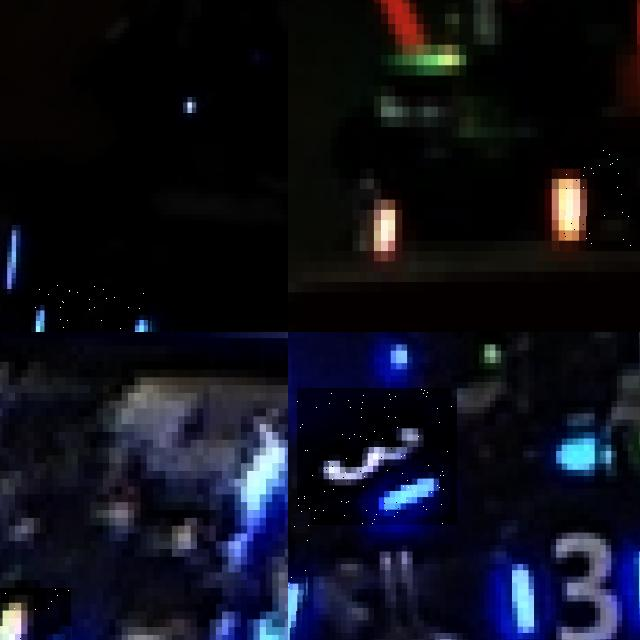B3: (297, 388, 457, 526), (492, 514, 640, 640)
B4: (25, 283, 151, 332)
Rs: (558, 148, 640, 251)
